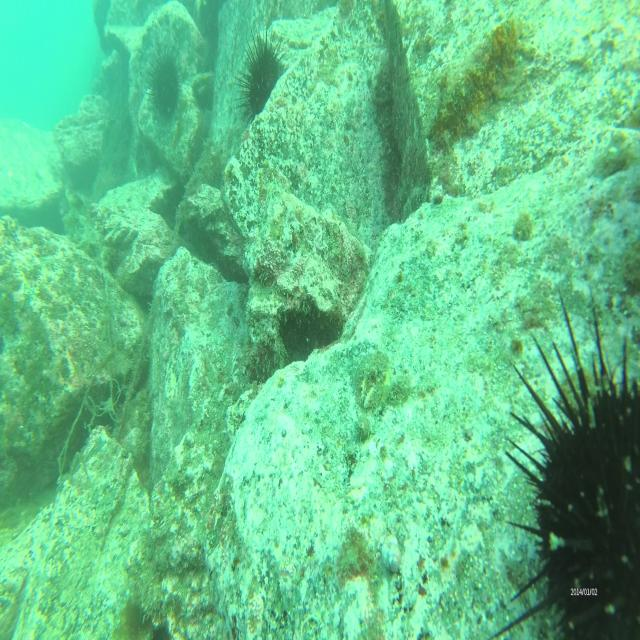echinus: (490, 287, 640, 640), (235, 31, 286, 121), (143, 48, 186, 135)
